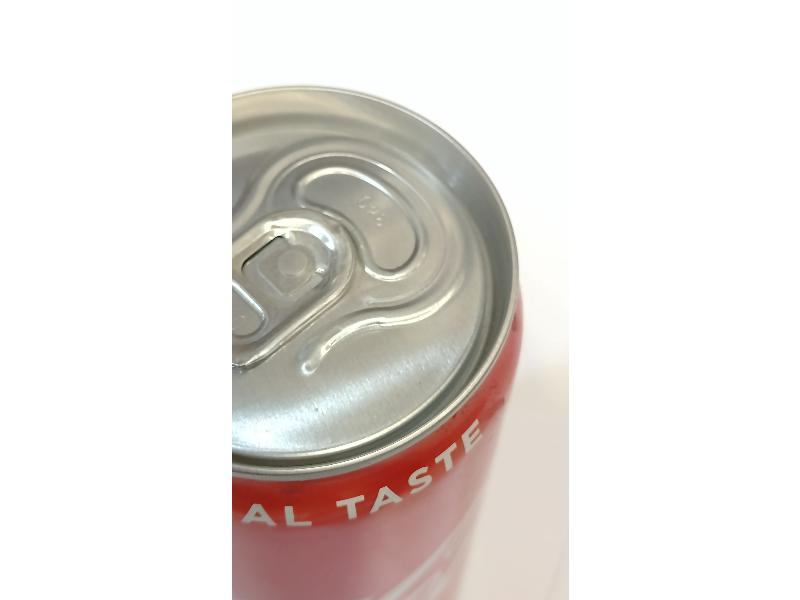can: (225, 73, 523, 592)
